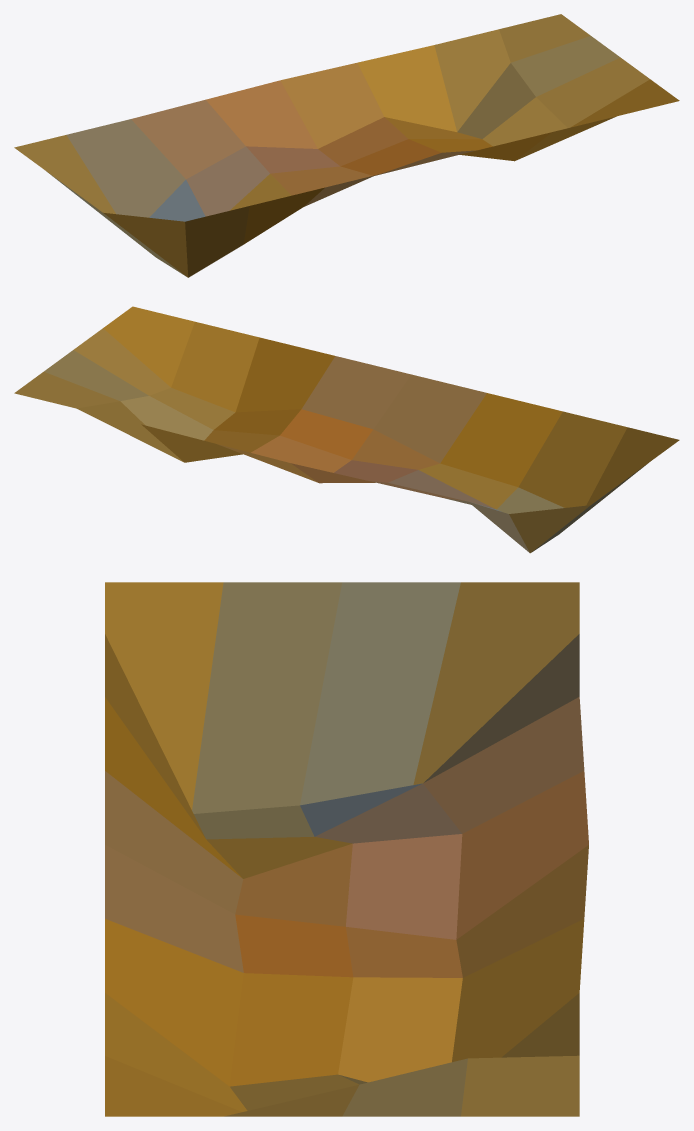
File: Chest-C_Treasure.fbx
The picture shows the model from 3 angles, top to bottom: view 1: azimuth 30°, elevation 25°; view 2: azimuth 150°, elevation 25°; view 3: azimuth 270°, elevation 25°; orthographic projection. The views are drawn at different scales.
Parts seen in each view (by area): view 1: Chest-C_Treasure; view 2: Chest-C_Treasure; view 3: Chest-C_Treasure.
Boxes of the visible parts, box(x1,y1,x2,y2) form: Chest-C_Treasure: box(14, 14, 679, 277); Chest-C_Treasure: box(14, 306, 679, 553); Chest-C_Treasure: box(105, 582, 588, 1116).
Size of the model in its own units: 137 by 18.69 by 52.46.
